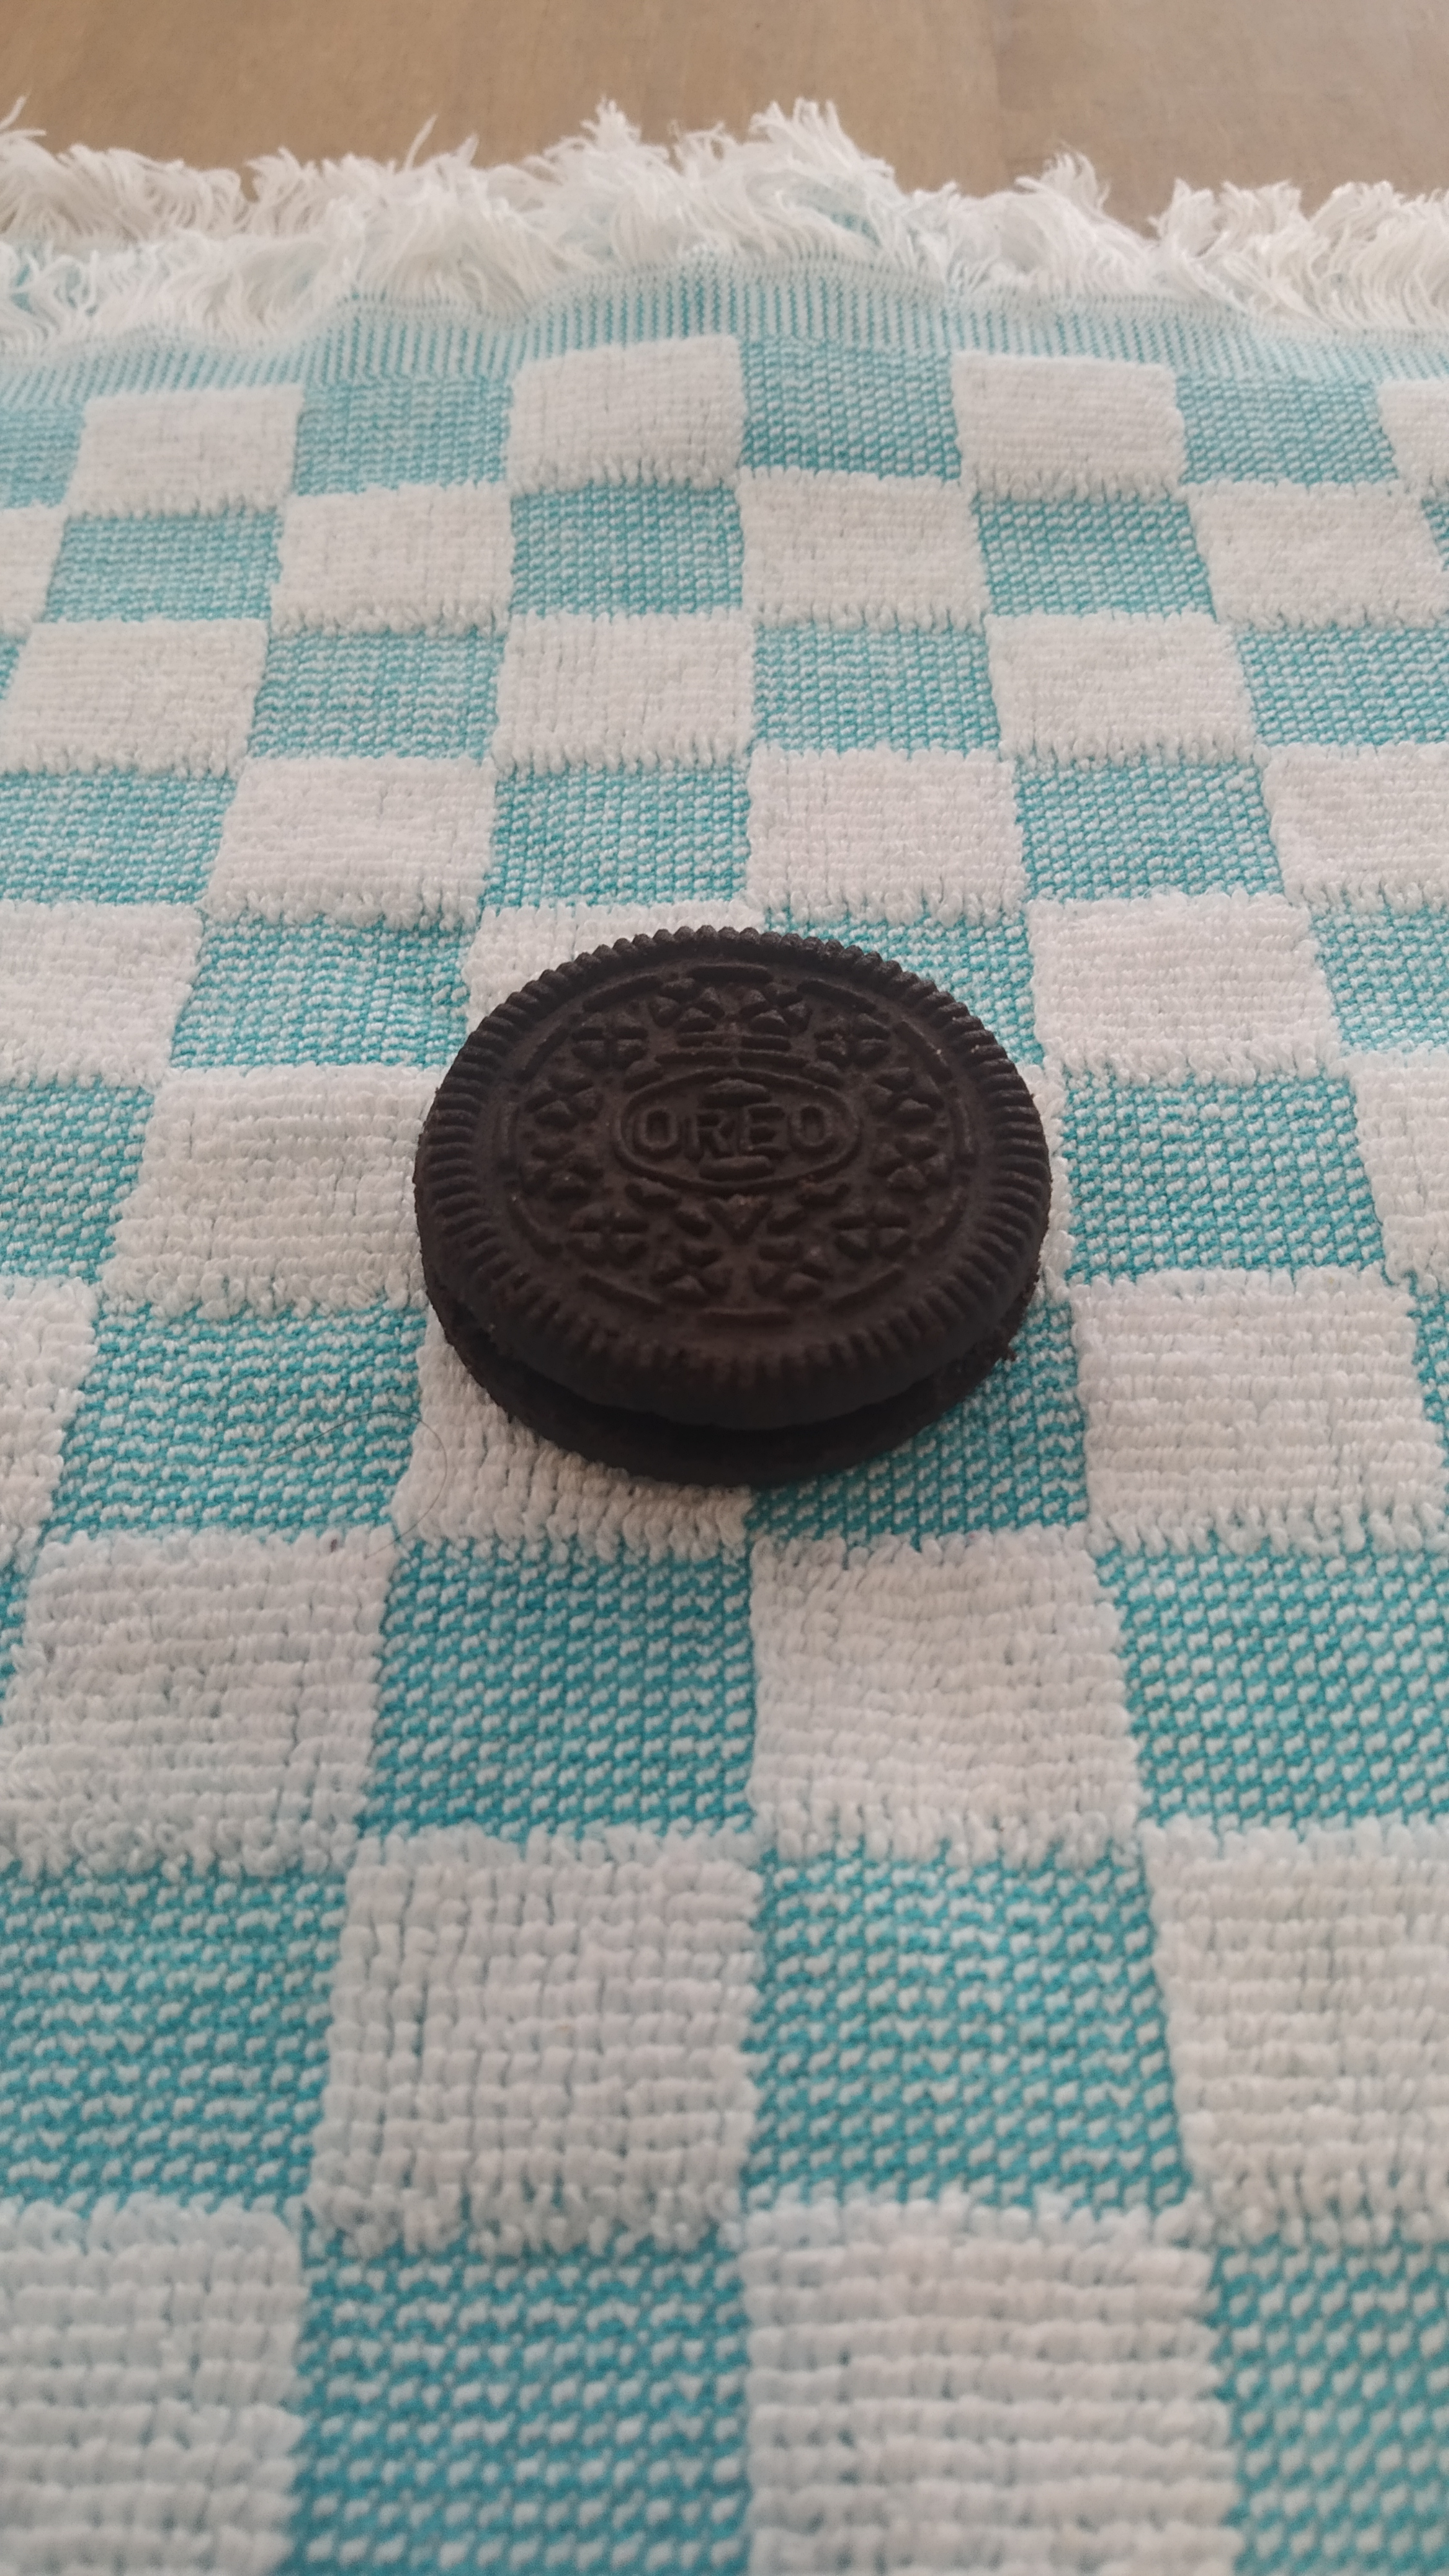oreo: (412, 925, 1054, 1488)
